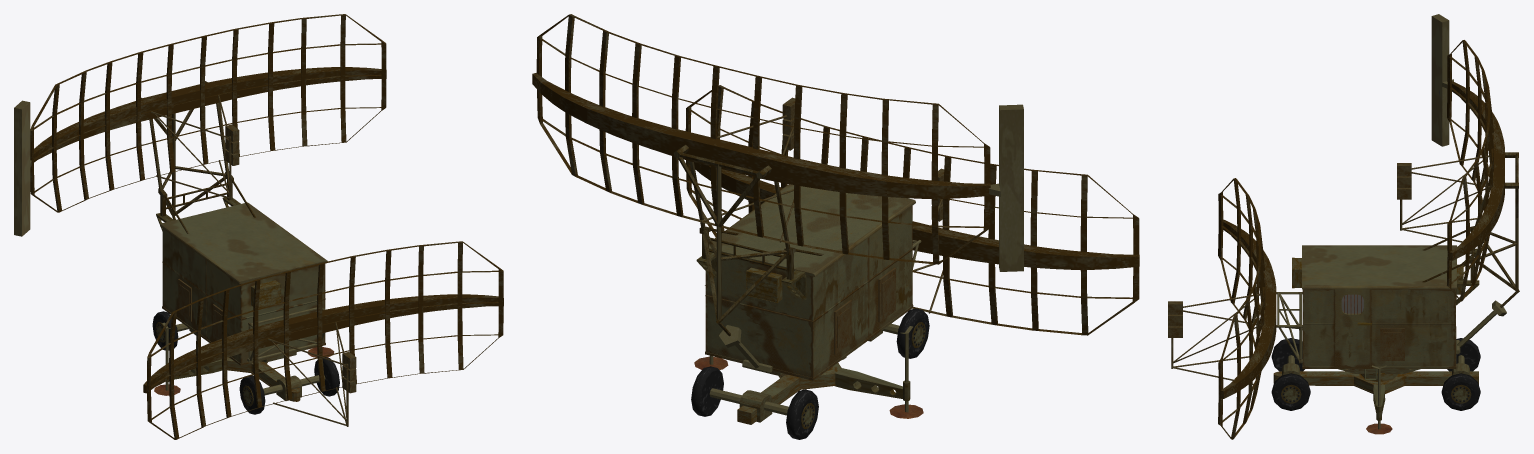
File: rls_p-35.glb
3 renders of one model, left to right at view 1: azimuth 30°, elevation 25°; view 2: azimuth 150°, elevation 25°; view 3: azimuth 270°, elevation 25°, orthographic. The views are drawn at different scales.
Parts seen in each view (by area): view 1: antenna.001, antenna, main, detail4, detail4.001, detail3, detail3.001, detail6, foundation2, detail1, wheel1.002, conditioner.002 (+4 smaller); view 2: main, antenna, antenna.001, detail4, detail4.001, detail1, foundation2, supprot1.001, wheel1.001, wheel1, wheel1.002, detail2 (+6 smaller); view 3: main, antenna.001, antenna, detail4, foundation2, detail3, detail3.001, detail4.001, wheel1.003, wheel1, detail8, detail1 (+6 smaller).
Part boxes in pixels (x1=…): antenna.001: x1=143, y1=241, x2=503, y2=439; antenna: x1=30, y1=14, x2=386, y2=212; main: x1=160, y1=202, x2=327, y2=365; detail4: x1=14, y1=100, x2=31, y2=236; detail4.001: x1=141, y1=81, x2=229, y2=219; detail3: x1=151, y1=95, x2=239, y2=199; detail3.001: x1=268, y1=322, x2=356, y2=426; detail6: x1=158, y1=172, x2=255, y2=233; foundation2: x1=227, y1=357, x2=300, y2=401; detail1: x1=178, y1=279, x2=222, y2=340; wheel1.002: x1=239, y1=375, x2=265, y2=414; conditioner.002: x1=251, y1=280, x2=281, y2=308; main: x1=705, y1=184, x2=915, y2=380; antenna: x1=532, y1=14, x2=990, y2=264; antenna.001: x1=685, y1=85, x2=1139, y2=335; detail4: x1=989, y1=104, x2=1023, y2=271; detail4.001: x1=673, y1=145, x2=790, y2=336; detail1: x1=834, y1=267, x2=896, y2=354; foundation2: x1=737, y1=363, x2=841, y2=424; supprot1.001: x1=834, y1=368, x2=910, y2=401; wheel1.001: x1=786, y1=389, x2=818, y2=439; wheel1: x1=691, y1=366, x2=723, y2=416; wheel1.002: x1=896, y1=308, x2=929, y2=358; detail2: x1=709, y1=388, x2=788, y2=422; main: x1=1302, y1=245, x2=1456, y2=368; antenna.001: x1=1218, y1=178, x2=1276, y2=439; antenna: x1=1447, y1=40, x2=1504, y2=301; detail4: x1=1431, y1=14, x2=1453, y2=146; foundation2: x1=1273, y1=371, x2=1478, y2=393; detail3: x1=1397, y1=155, x2=1490, y2=246; detail3.001: x1=1168, y1=293, x2=1261, y2=384; detail4.001: x1=1474, y1=152, x2=1519, y2=307; wheel1.003: x1=1271, y1=373, x2=1310, y2=410; wheel1: x1=1441, y1=373, x2=1480, y2=410; detail8: x1=1276, y1=292, x2=1302, y2=363; detail1: x1=1380, y1=328, x2=1404, y2=360.
Bounding box in the file's own units: 12.8 × 9.35 × 10.52.
37 materials, 37 textured.
